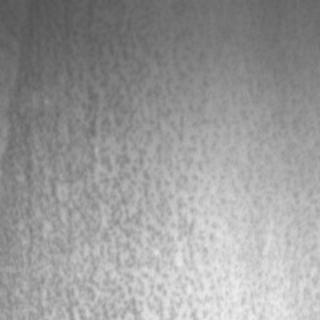pitted_surface: (1, 0, 308, 312)
